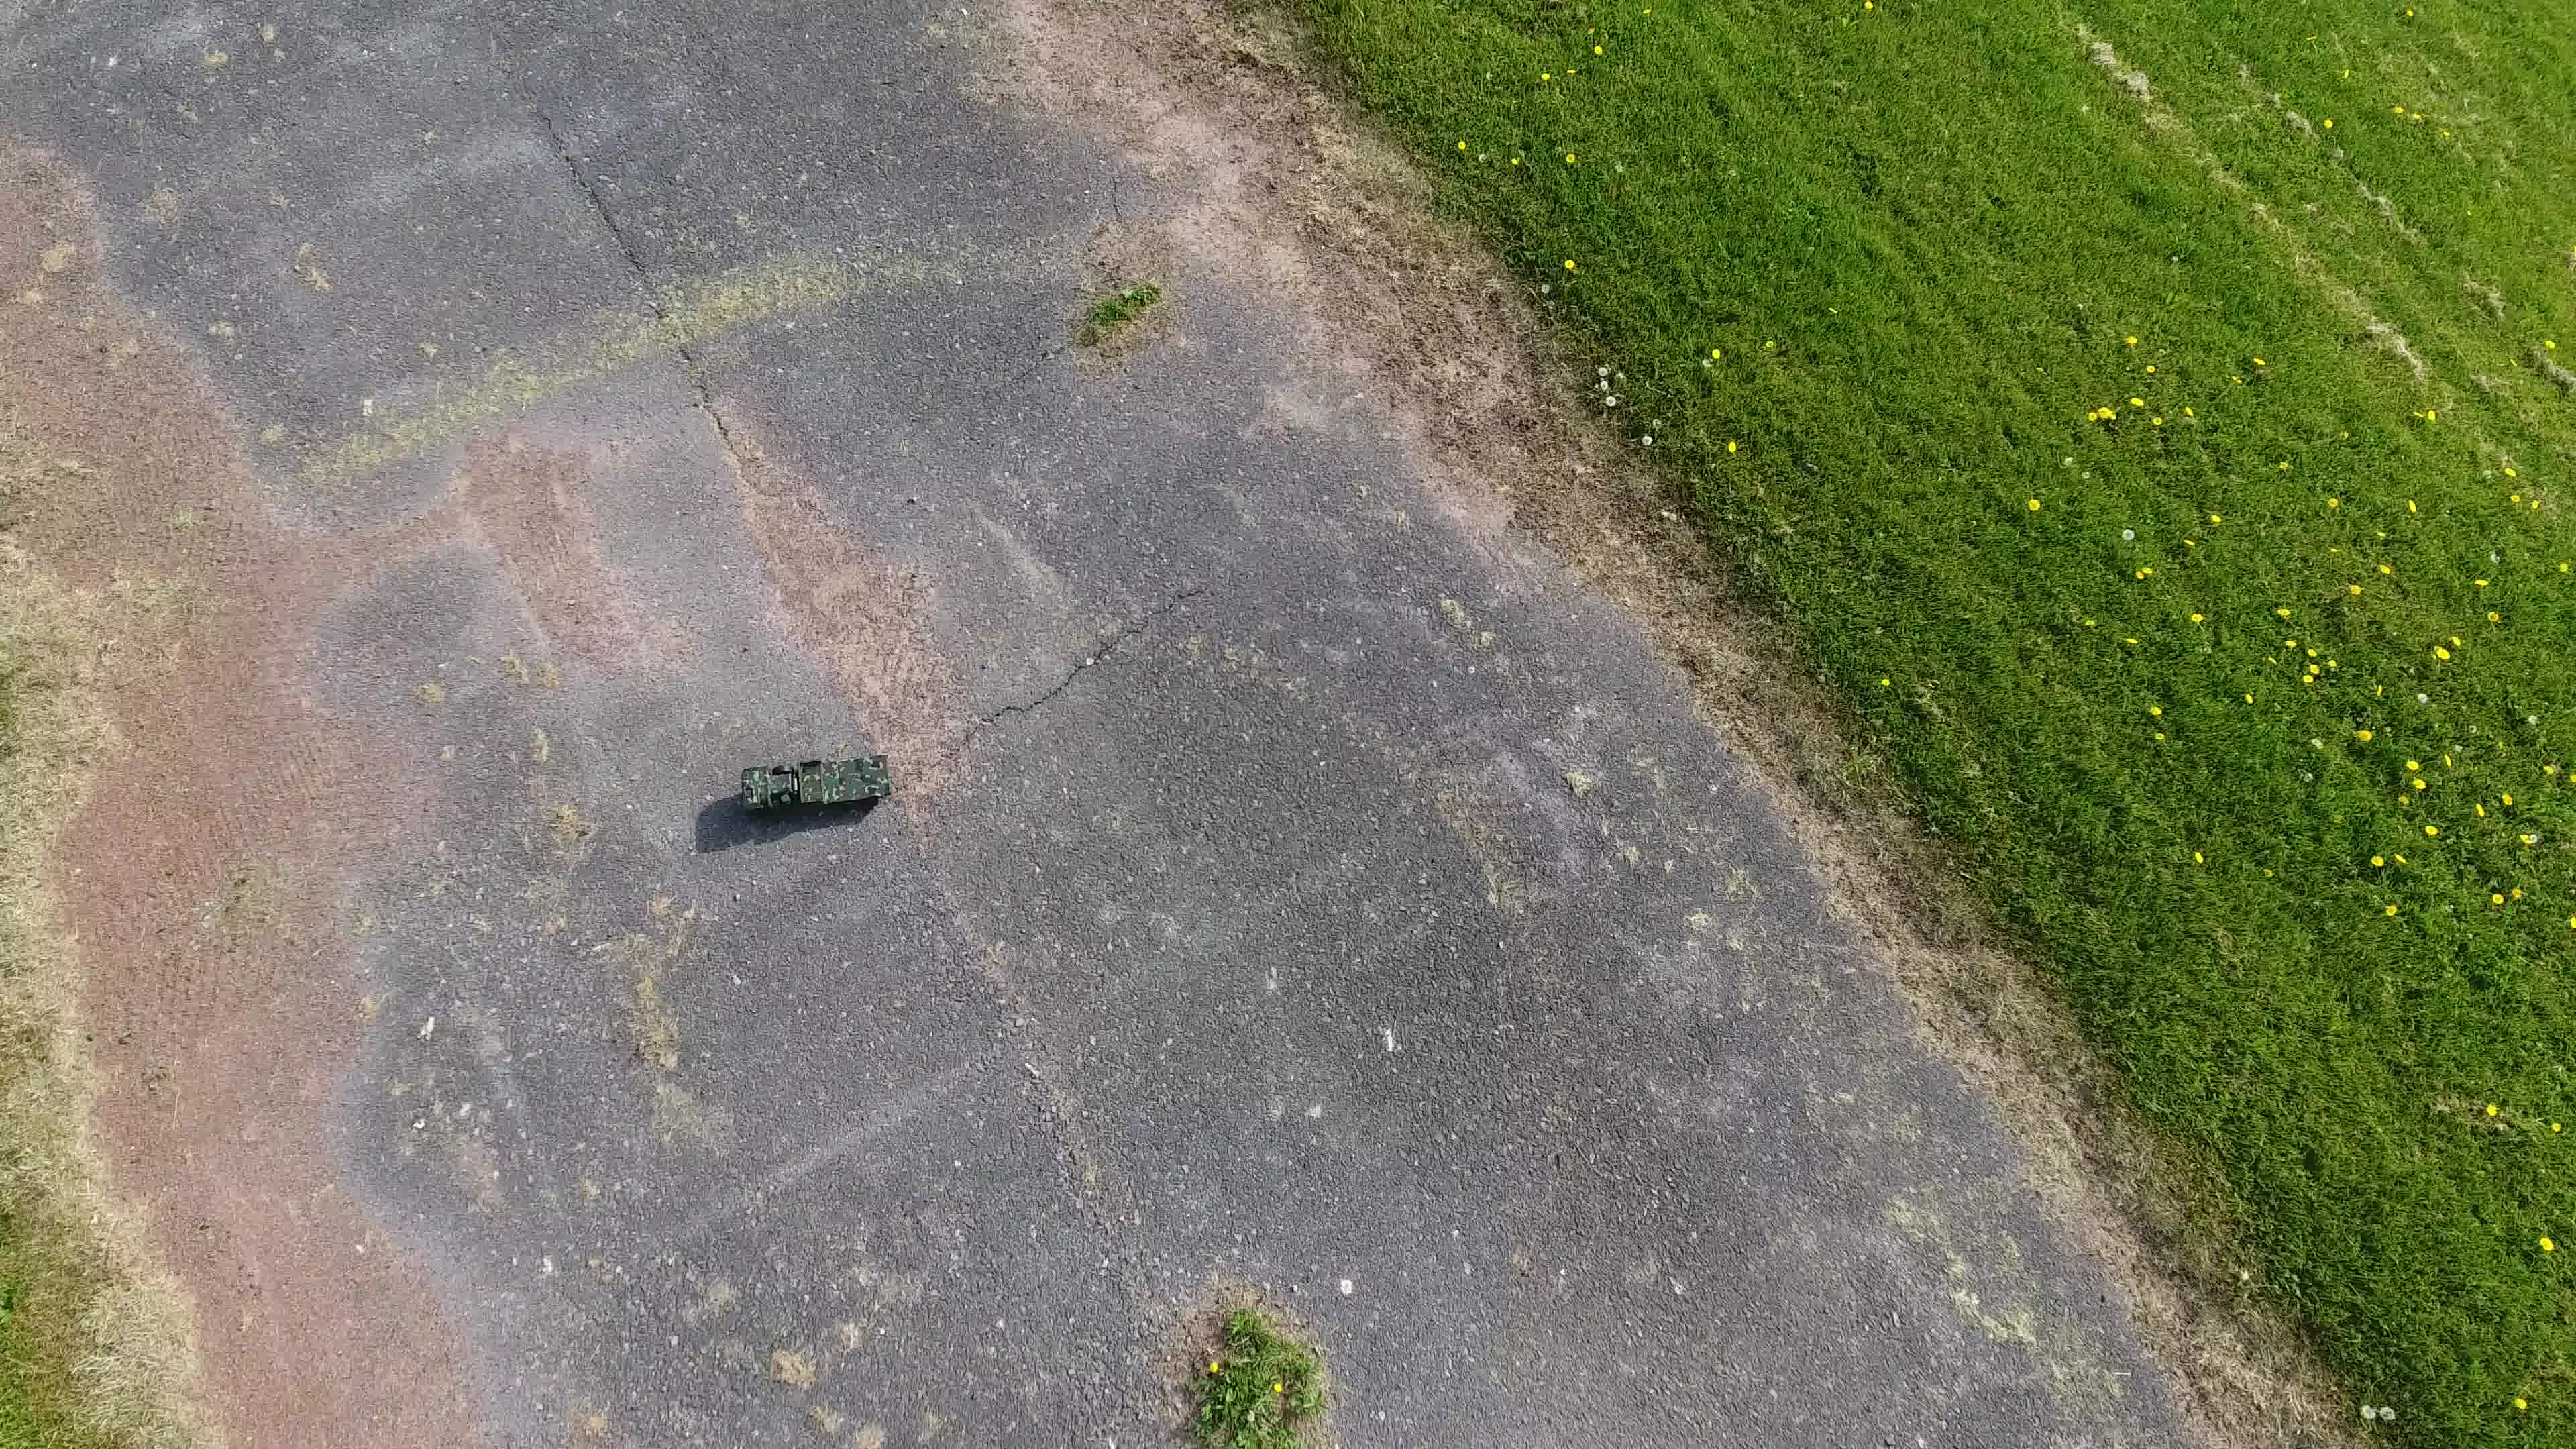transporter9_camo: (734, 743, 897, 823)
